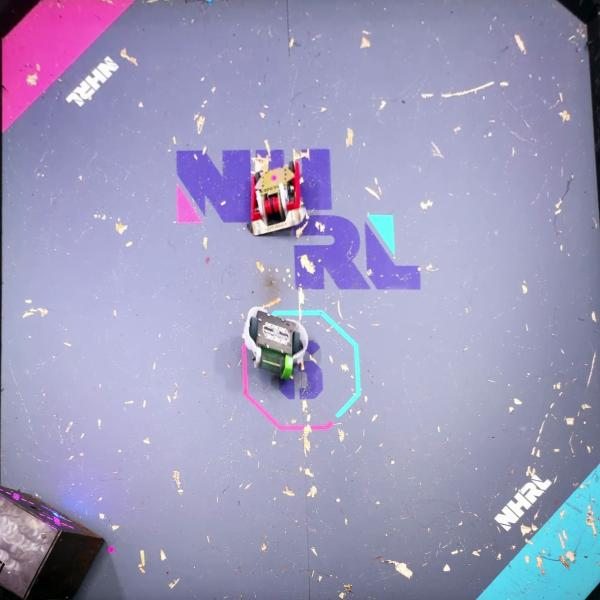housebot: (0, 484, 106, 600)
robot: (243, 304, 309, 383), (250, 153, 309, 237)
